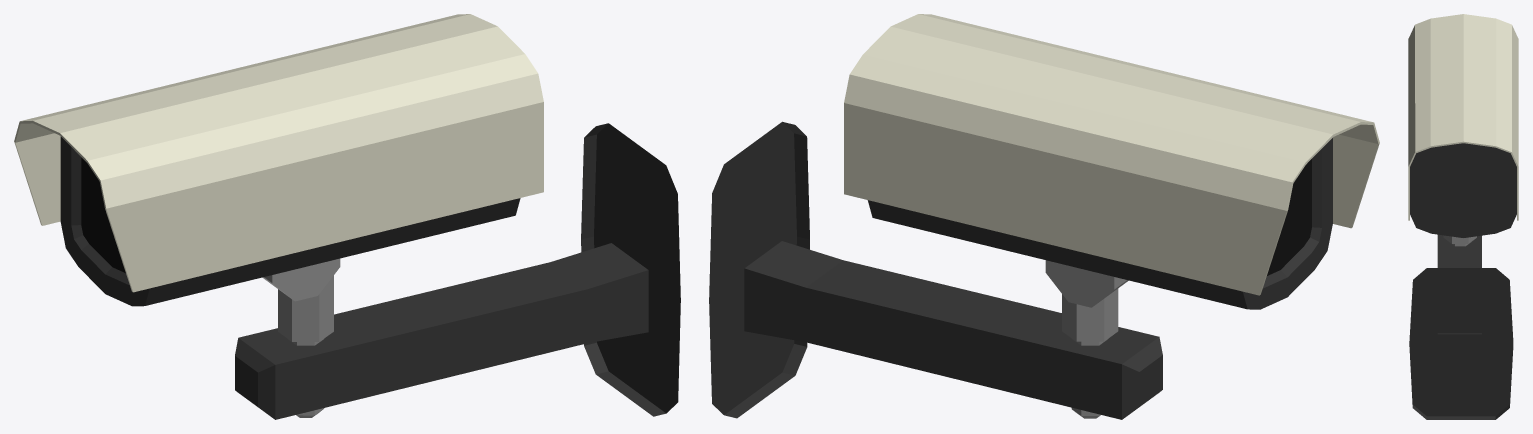
File: CAMERA.fbx
3 views of the same model, side by side, from view 1: azimuth 30°, elevation 25°; view 2: azimuth 150°, elevation 25°; view 3: azimuth 270°, elevation 25° (orthographic). The views are drawn at different scales.
Visible parts, largest first — view 1: head, handle 3, holder, camera, handle2, handle; view 2: head, handle 3, holder, camera, handle2, handle; view 3: head, holder, camera, handle 3, handle2.
Part boxes in pixels (box(x1,y1,x2,y2)): head: box(14, 14, 543, 292); handle 3: box(235, 243, 648, 419); holder: box(581, 123, 680, 416); camera: box(60, 136, 520, 306); handle2: box(278, 275, 333, 417); handle: box(262, 258, 340, 301); head: box(844, 14, 1379, 295); handle 3: box(744, 241, 1162, 419); holder: box(709, 121, 809, 418); camera: box(867, 138, 1332, 309); handle2: box(1062, 288, 1118, 418); handle: box(1045, 260, 1128, 307); head: box(1408, 14, 1518, 220); holder: box(1409, 268, 1513, 419); camera: box(1410, 143, 1516, 237); handle 3: box(1437, 234, 1481, 371); handle2: box(1443, 235, 1476, 246).
Size of the model in its own units: 404 by 267 by 112.
